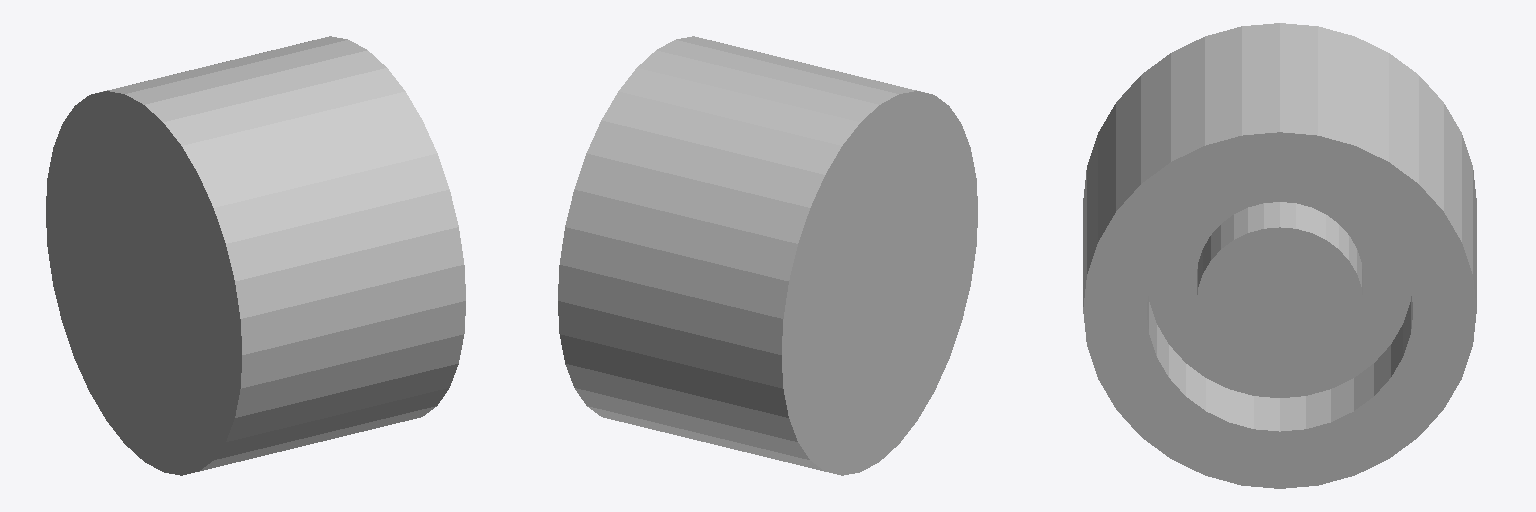
File: Wheel 1.obj
3 views of the same model, side by side, from view 1: azimuth 30°, elevation 25°; view 2: azimuth 150°, elevation 25°; view 3: azimuth 270°, elevation 25° (orthographic).
Parts seen in each view (by area): view 1: Cylinder.002; view 2: Cylinder.002; view 3: Cylinder.002.
Boxes of the visible parts, <box> form: Cylinder.002: <box>46,36,465,475</box>; Cylinder.002: <box>558,36,977,475</box>; Cylinder.002: <box>1083,23,1476,488</box>.
Size of the model in its own units: 0.8567 by 1.3 by 1.3.